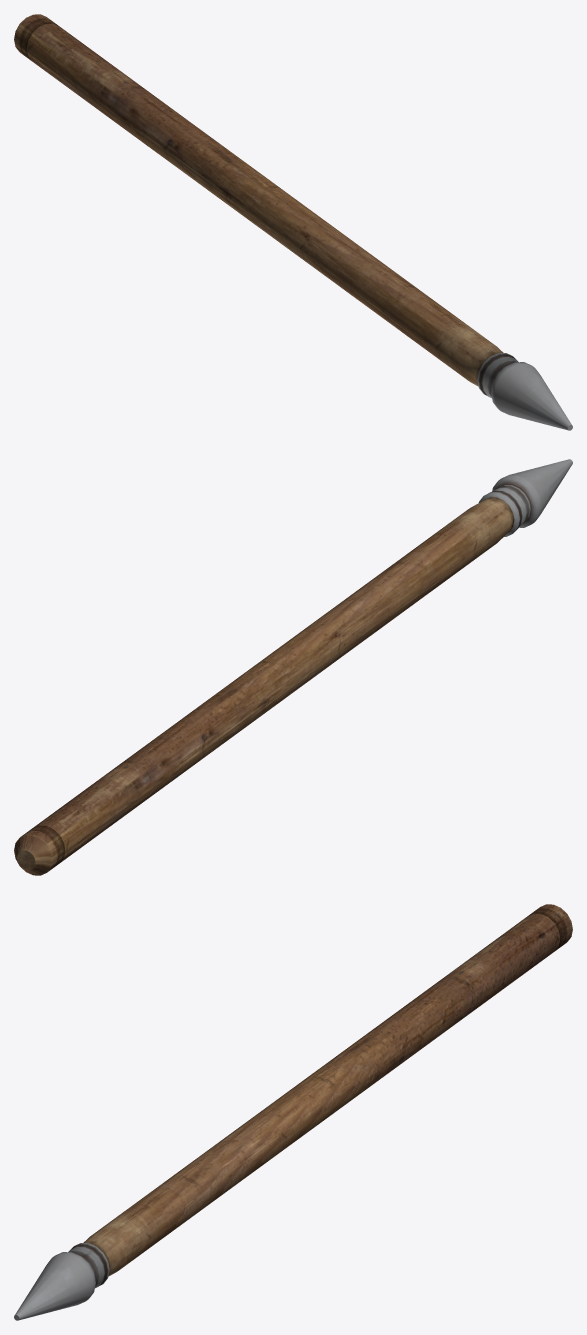
Rendered from bolt.glb.
The picture shows the model from 3 angles, top to bottom: view 1: azimuth 30°, elevation 25°; view 2: azimuth 150°, elevation 25°; view 3: azimuth 330°, elevation 25°; orthographic projection.
Parts seen in each view (by area): view 1: bolt; view 2: bolt; view 3: bolt.
Part boxes in pixels (x1,y1,x2,y2): bolt: (14, 14, 572, 430); bolt: (14, 459, 572, 875); bolt: (14, 904, 572, 1320).
Size of the model in its own units: 0.0914 by 0.0914 by 1.8.
Materials: 1 (1 with a texture image).
